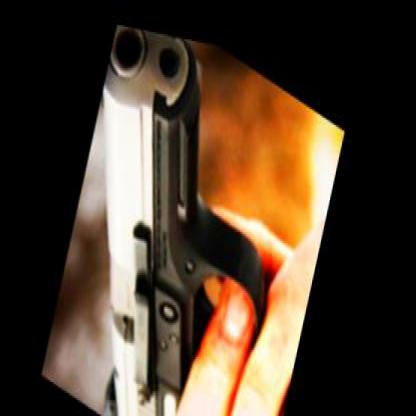pistol: (42, 11, 307, 412)
